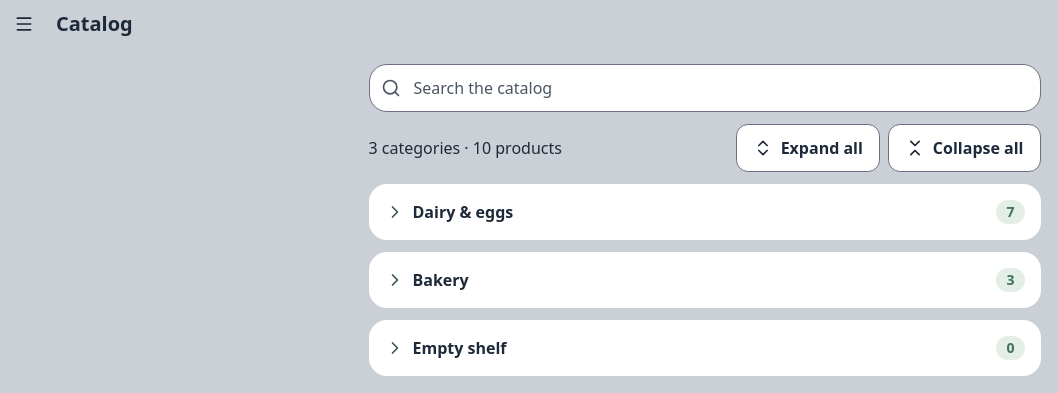
Test: CatalogPage › announces the number of matches in a status region
The image size is (1058, 393).
Expected: the button "Dairy & eggs 7" is shown, [368,184,1040,240]
Expected: the message shows "3 categories", [368,137,562,159]
In the search field labelled "Search the catalog": (704,88) [368,64,1040,112], type "oat milk"
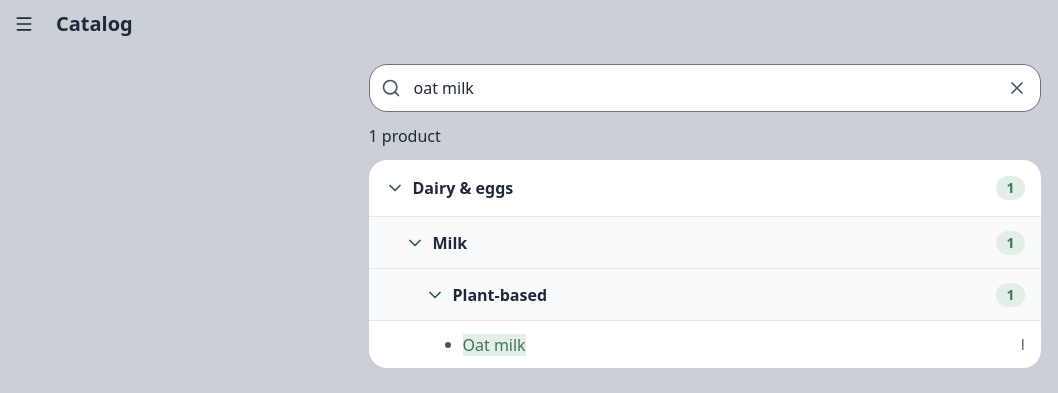
Result: the message reads "1 product" at [368,125,441,147]
